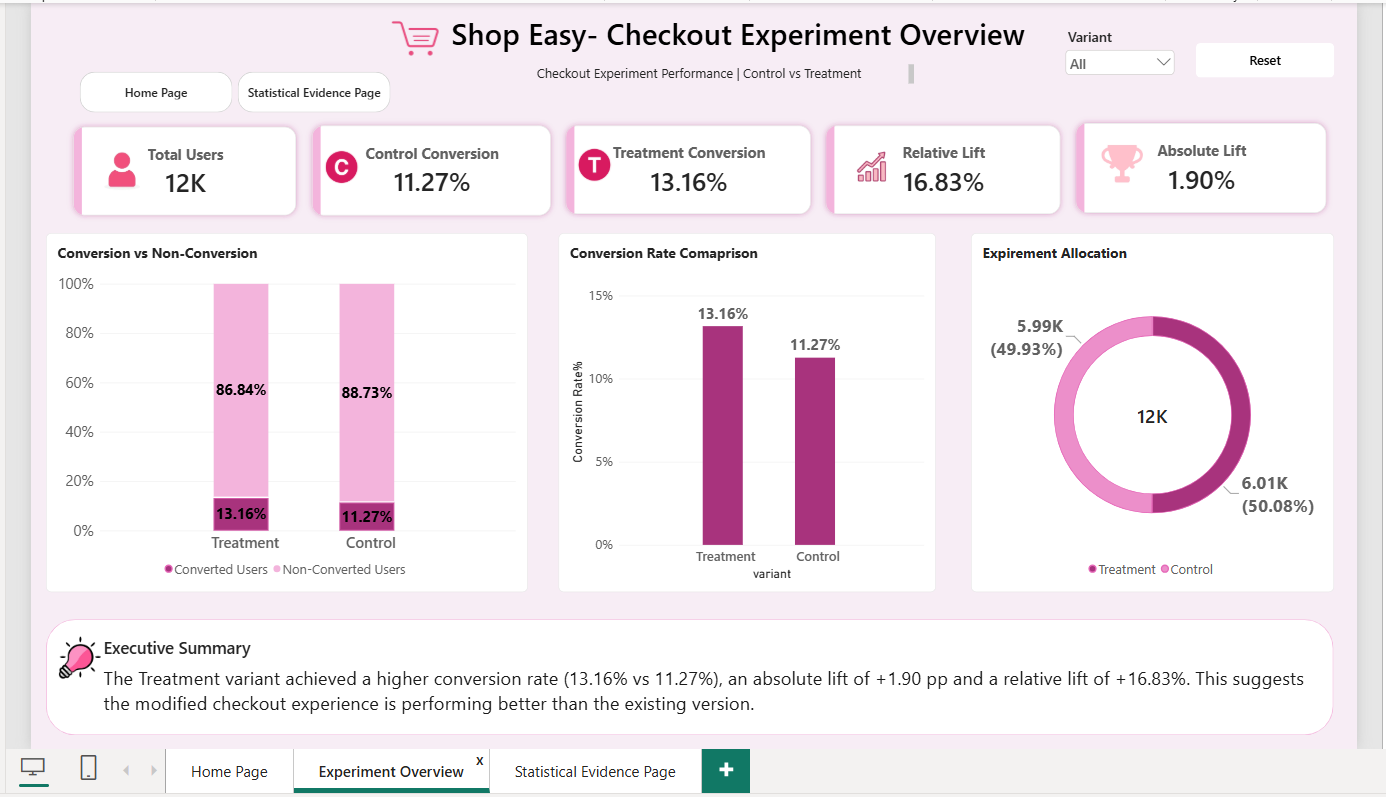

This screenshot's page, from the dashboard's own definition file:
{"tool":"powerbi","page":{"name":"Experiment Overview","canvas":[1920,1080],"ordinal":1},"visuals":[{"type":"cardVisual","fields":{"Data":["AB_Data.Total Users"]},"box":[50.9,167.7,344.9,150.8],"z":0},{"type":"cardVisual","fields":{"Data":["AB_Data.Control Conversion"]},"box":[395.8,165.8,367.5,152.7],"z":1000},{"type":"cardVisual","fields":{"Data":["AB_Data.Treatment Conversion"]},"box":[763.3,165.8,376.9,150.8],"z":2000},{"type":"cardVisual","fields":{"Data":["AB_Data.Absolute Lift"]},"box":[1502,162.1,384.5,152.7],"z":3000},{"type":"cardVisual","fields":{"Data":["AB_Data.Relative Lift"]},"box":[1140.2,165.8,361.8,150.8],"z":4000},{"type":"clusteredColumnChart","title":"Conversion Rate Comaprison","fields":{"Category":["AB_Data.variant"],"Y":["AB_Data.Conversion Rate%"]},"box":[763.3,333.6,546.5,520.1],"z":5000},{"type":"hundredPercentStackedColumnChart","title":"Conversion vs Non-Conversion","fields":{"Category":["AB_Data.variant"],"Y":["AB_Data.Converted Users","AB_Data.Non-Converted Users"]},"box":[22.6,333.6,697.3,520.1],"z":6000},{"type":"donutChart","title":"Expirement Allocation","fields":{"Category":["AB_Data.variant"],"Y":["CountNonNull(AB_Data.user_id)"]},"box":[1360.7,333.6,525.8,520.1],"z":7000},{"type":"slicer","fields":{"Values":["AB_Data.variant"]},"box":[1492.6,33.9,167.7,96.1],"z":8000},{"type":"actionButton","box":[1686.7,58.4,200,50],"z":9000},{"type":"textbox","box":[555.9,15.1,936.6,67.8],"z":10000},{"type":"textbox","box":[661.5,88.6,616.3,41.5],"z":11000},{"type":"shape","box":[22.6,891.4,1863.8,167.7],"z":12000},{"type":"textbox","box":[105.5,959.2,1756.4,81],"z":13000},{"type":"textbox","box":[105.5,917.8,344.9,41.5],"z":14000},{"type":"image","box":[499.4,15.1,113.1,73.5],"z":15000},{"type":"image","box":[69.7,194.1,122.5,96.1],"z":16000},{"type":"image","box":[425.9,209.2,49,54.7],"z":17000},{"type":"image","box":[782.1,209.2,67.8,49],"z":18000},{"type":"image","box":[1157.1,194.1,120.6,86.7],"z":19000},{"type":"image","box":[1534,203.5,90.5,60.3],"z":20000},{"type":"image","box":[22.6,917.8,94.2,64.1],"z":21000},{"type":"pageNavigator","box":[70.6,99.5,450.6,59.7],"z":22000}]}

Visuals, with their boxes on the page's 1920x1080 design canvas (x1, y1, x2, y2). These are canvas units, not pixel positions in the 1386x797 screenshot, which may show the page scaled, cropped or inside an application window:
cardVisual - AB_Data.Total Users: crop(51, 168, 396, 318)
cardVisual - AB_Data.Control Conversion: crop(396, 166, 763, 318)
cardVisual - AB_Data.Treatment Conversion: crop(763, 166, 1140, 317)
cardVisual - AB_Data.Absolute Lift: crop(1502, 162, 1886, 315)
cardVisual - AB_Data.Relative Lift: crop(1140, 166, 1502, 317)
"Conversion Rate Comaprison" clusteredColumnChart: crop(763, 334, 1310, 854)
"Conversion vs Non-Conversion" hundredPercentStackedColumnChart: crop(23, 334, 720, 854)
"Expirement Allocation" donutChart: crop(1361, 334, 1886, 854)
slicer - AB_Data.variant: crop(1493, 34, 1660, 130)
actionButton: crop(1687, 58, 1887, 108)
textbox: crop(556, 15, 1492, 83)
textbox: crop(662, 89, 1278, 130)
shape: crop(23, 891, 1886, 1059)
textbox: crop(106, 959, 1862, 1040)
textbox: crop(106, 918, 450, 959)
image: crop(499, 15, 612, 89)
image: crop(70, 194, 192, 290)
image: crop(426, 209, 475, 264)
image: crop(782, 209, 850, 258)
image: crop(1157, 194, 1278, 281)
image: crop(1534, 204, 1624, 264)
image: crop(23, 918, 117, 982)
pageNavigator: crop(71, 100, 521, 159)
